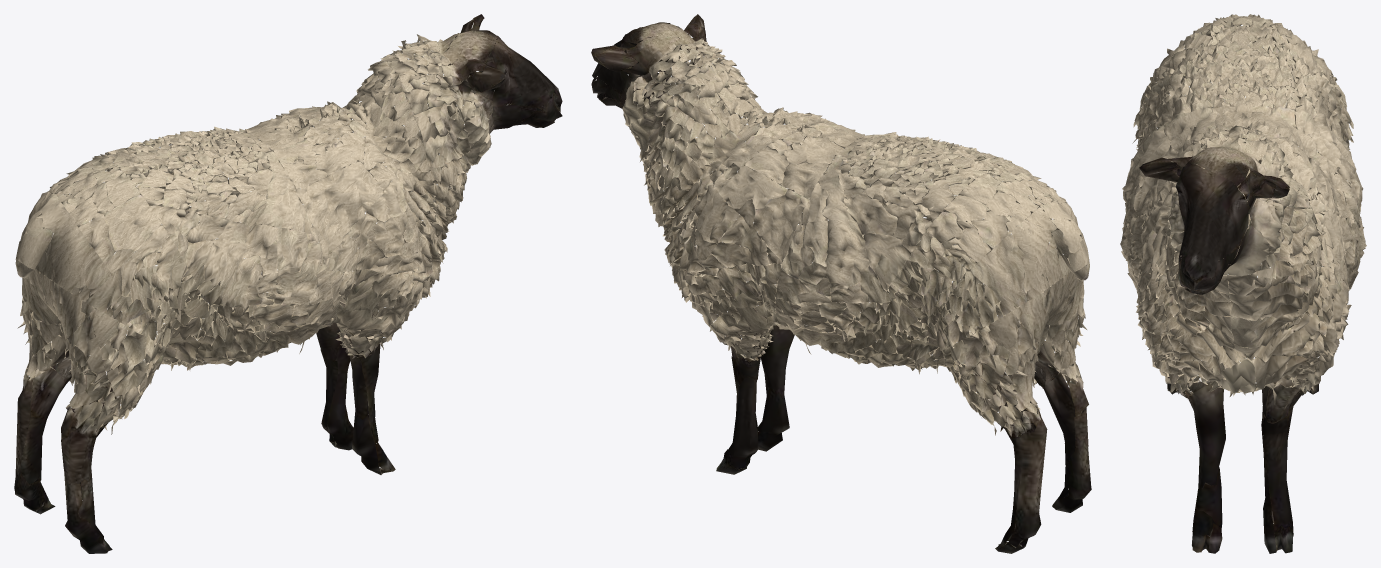
Rendered from sheep.glb.
3 renders of one model, left to right at view 1: azimuth 30°, elevation 25°; view 2: azimuth 150°, elevation 25°; view 3: azimuth 270°, elevation 25°, orthographic. The views are drawn at different scales.
Visible parts, largest first — view 1: Mesh_0; view 2: Mesh_0; view 3: Mesh_0.
Part boxes in pixels (x1,y1,x2,y2): Mesh_0: [14, 14, 562, 553]; Mesh_0: [591, 14, 1091, 553]; Mesh_0: [1120, 14, 1366, 553].
Bounding box in the file's own units: 1.14 × 0.85 × 0.4223.
1 material, 1 textured.
